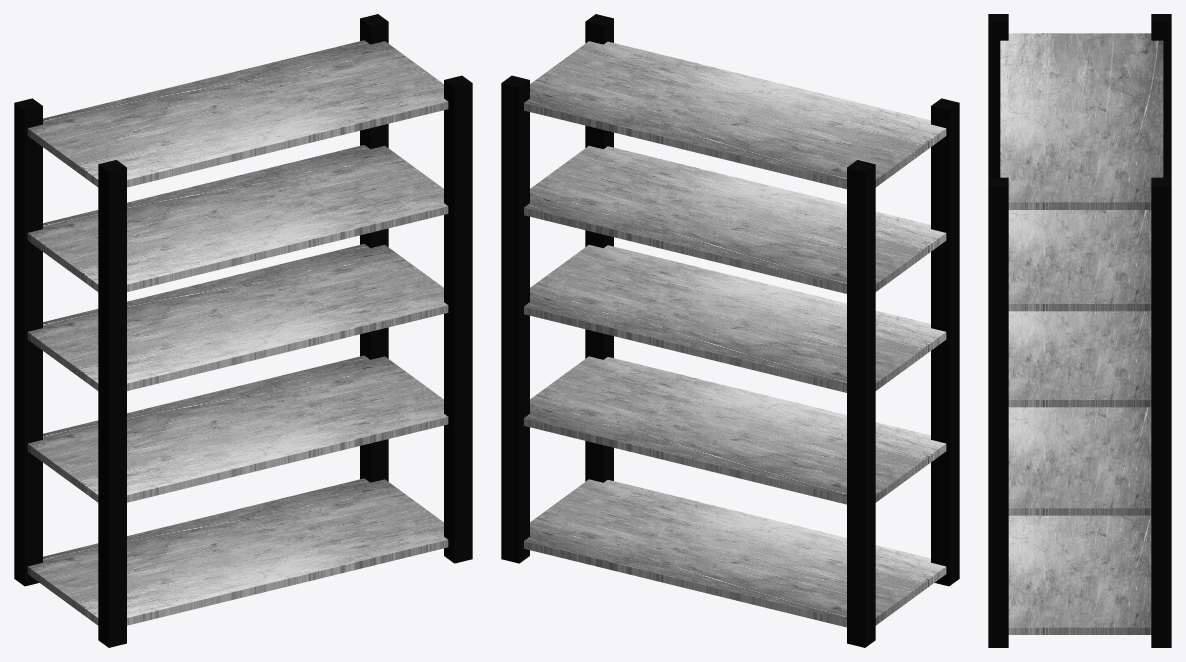
The model's file is rakbesi.fbx.
3 renders of one model, left to right at view 1: azimuth 30°, elevation 25°; view 2: azimuth 150°, elevation 25°; view 3: azimuth 270°, elevation 25°, orthographic. The views are drawn at different scales.
Visible parts, largest first — view 1: Plane.004; view 2: Plane.004; view 3: Plane.004.
Part boxes in pixels (x1,y1,x2,y2): Plane.004: (14,14,472,647); Plane.004: (501,14,959,647); Plane.004: (988,14,1171,647).
Bounding box in the file's own units: 200 × 250 × 90.
2 materials, 1 textured.
